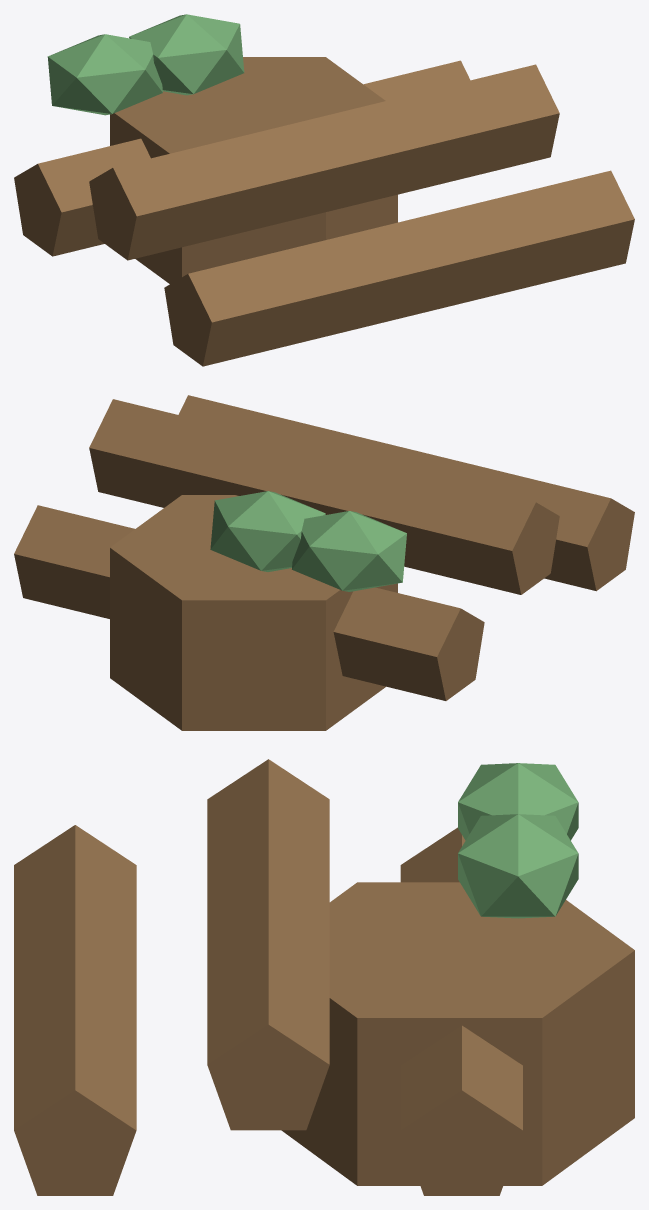
The model's file is greenmere_oak_grove.lod1.glb.
The picture shows the model from 3 angles, top to bottom: view 1: azimuth 30°, elevation 25°; view 2: azimuth 150°, elevation 25°; view 3: azimuth 270°, elevation 25°; orthographic projection. The views are drawn at different scales.
Size of the model in its own units: 1.56 by 0.763 by 1.54.
